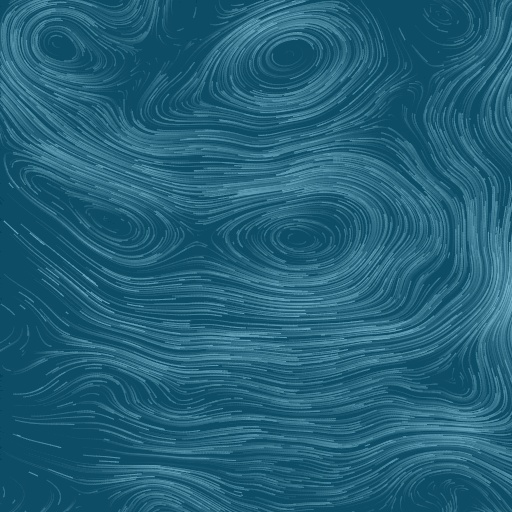eddy: (11, 160, 174, 268), (214, 5, 371, 111), (247, 203, 361, 278), (24, 10, 108, 82)
